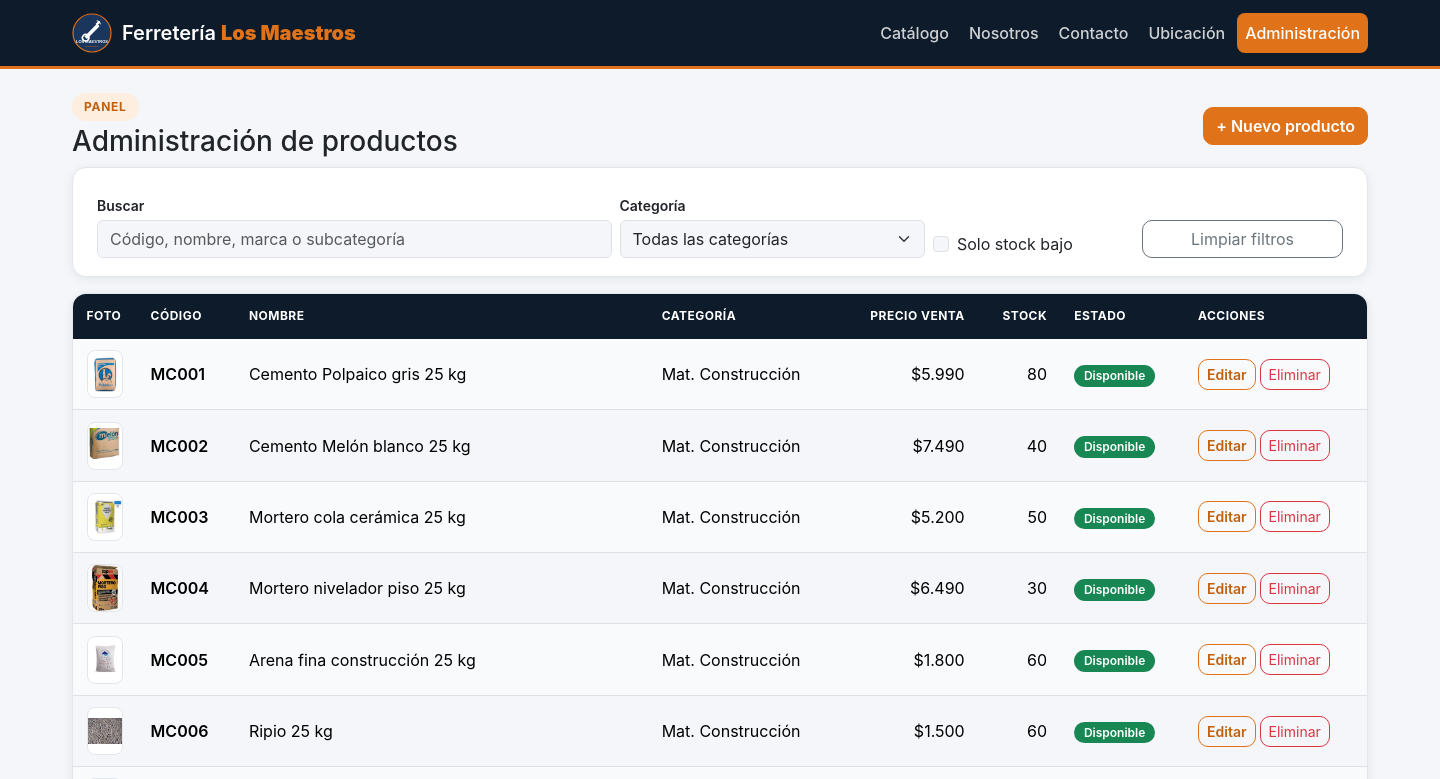
Test case: Páginas y navegación (integración) › DELETE: eliminar pide confirmación y quita el producto de la tabla
This screenshot has width=1440, height=779.
Click the button with aria-label "Eliminar MC001": click(1295, 374) [1260,359,1330,390]
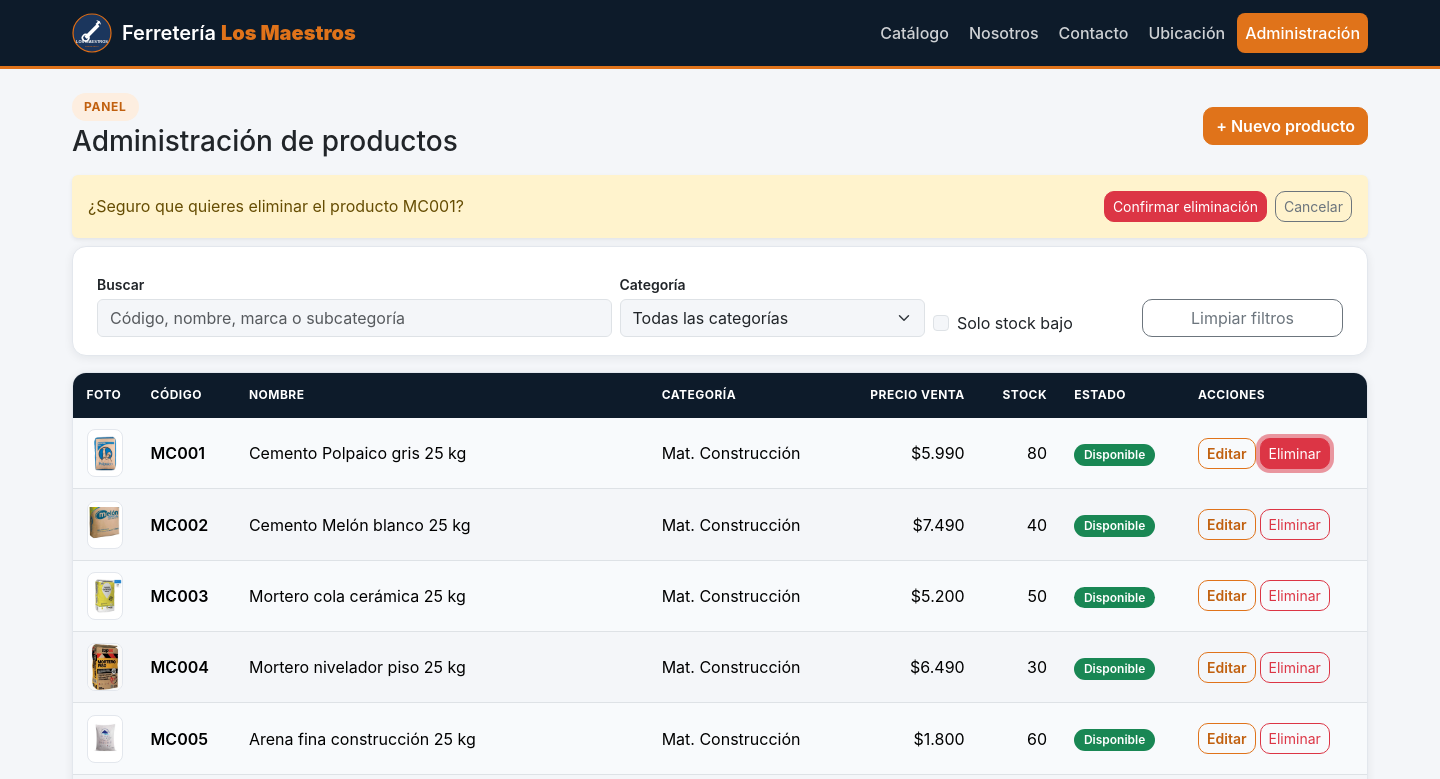
expect the text "¿Seguro que quieres eliminar el producto MC001?" is shown: met, box [88,194,464,218]
Click the button "Confirmar eliminación": click(1185, 206) [1104,191,1267,222]
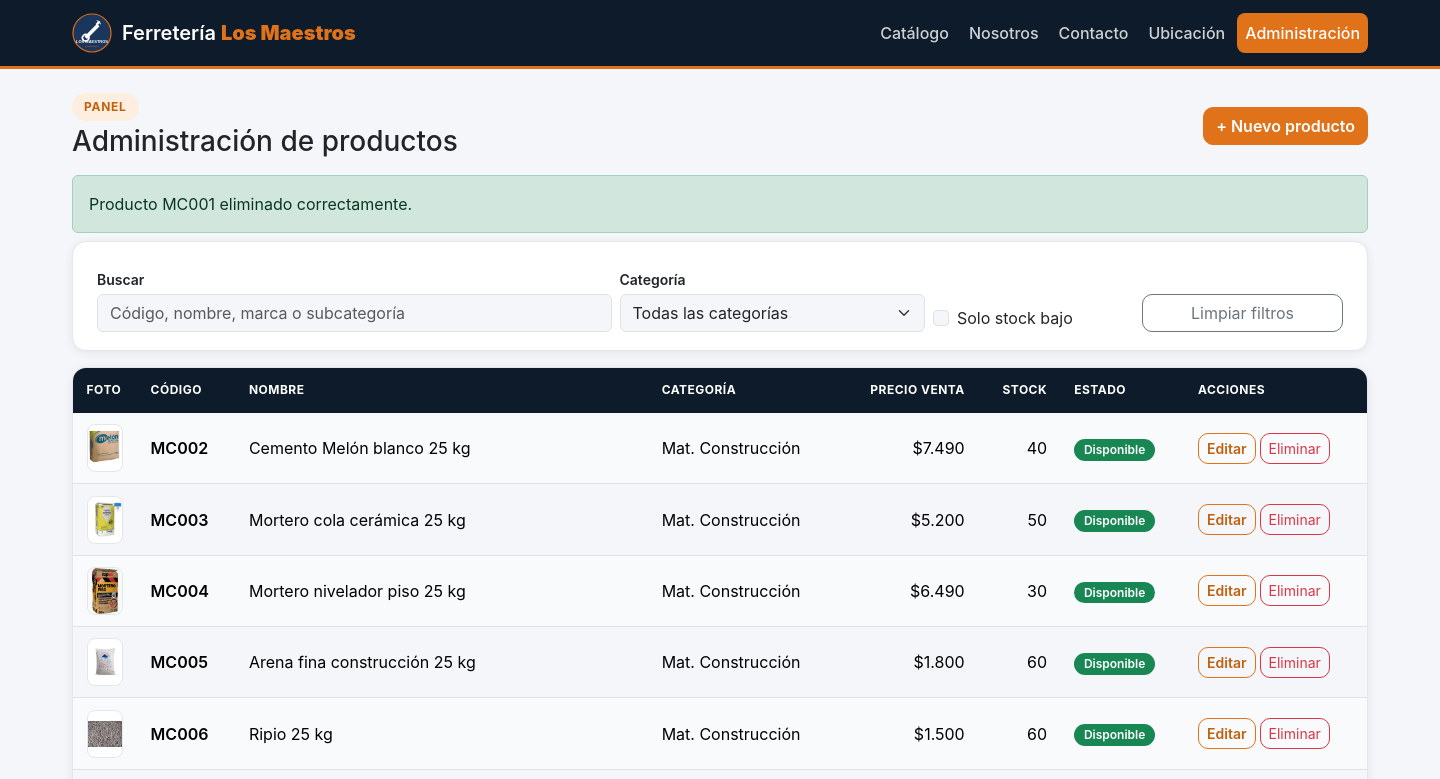
expect the text "Producto MC001 eliminado correctamente." is shown: met, box [72,175,1368,233]
expect the text "Cemento Polpaico gris 25 kg" is gone: met
